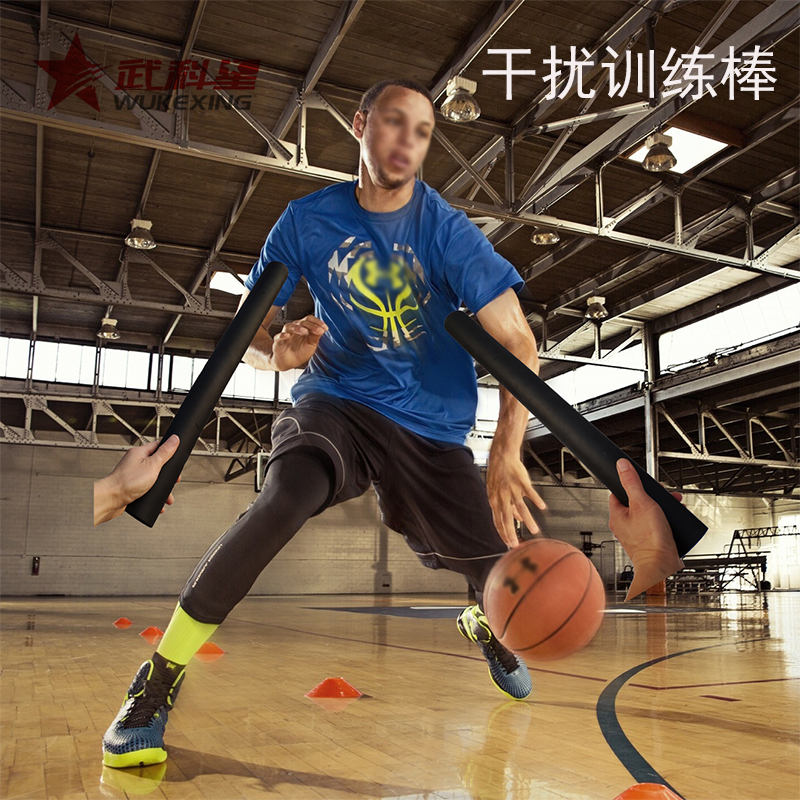ball: (482, 537, 606, 661)
